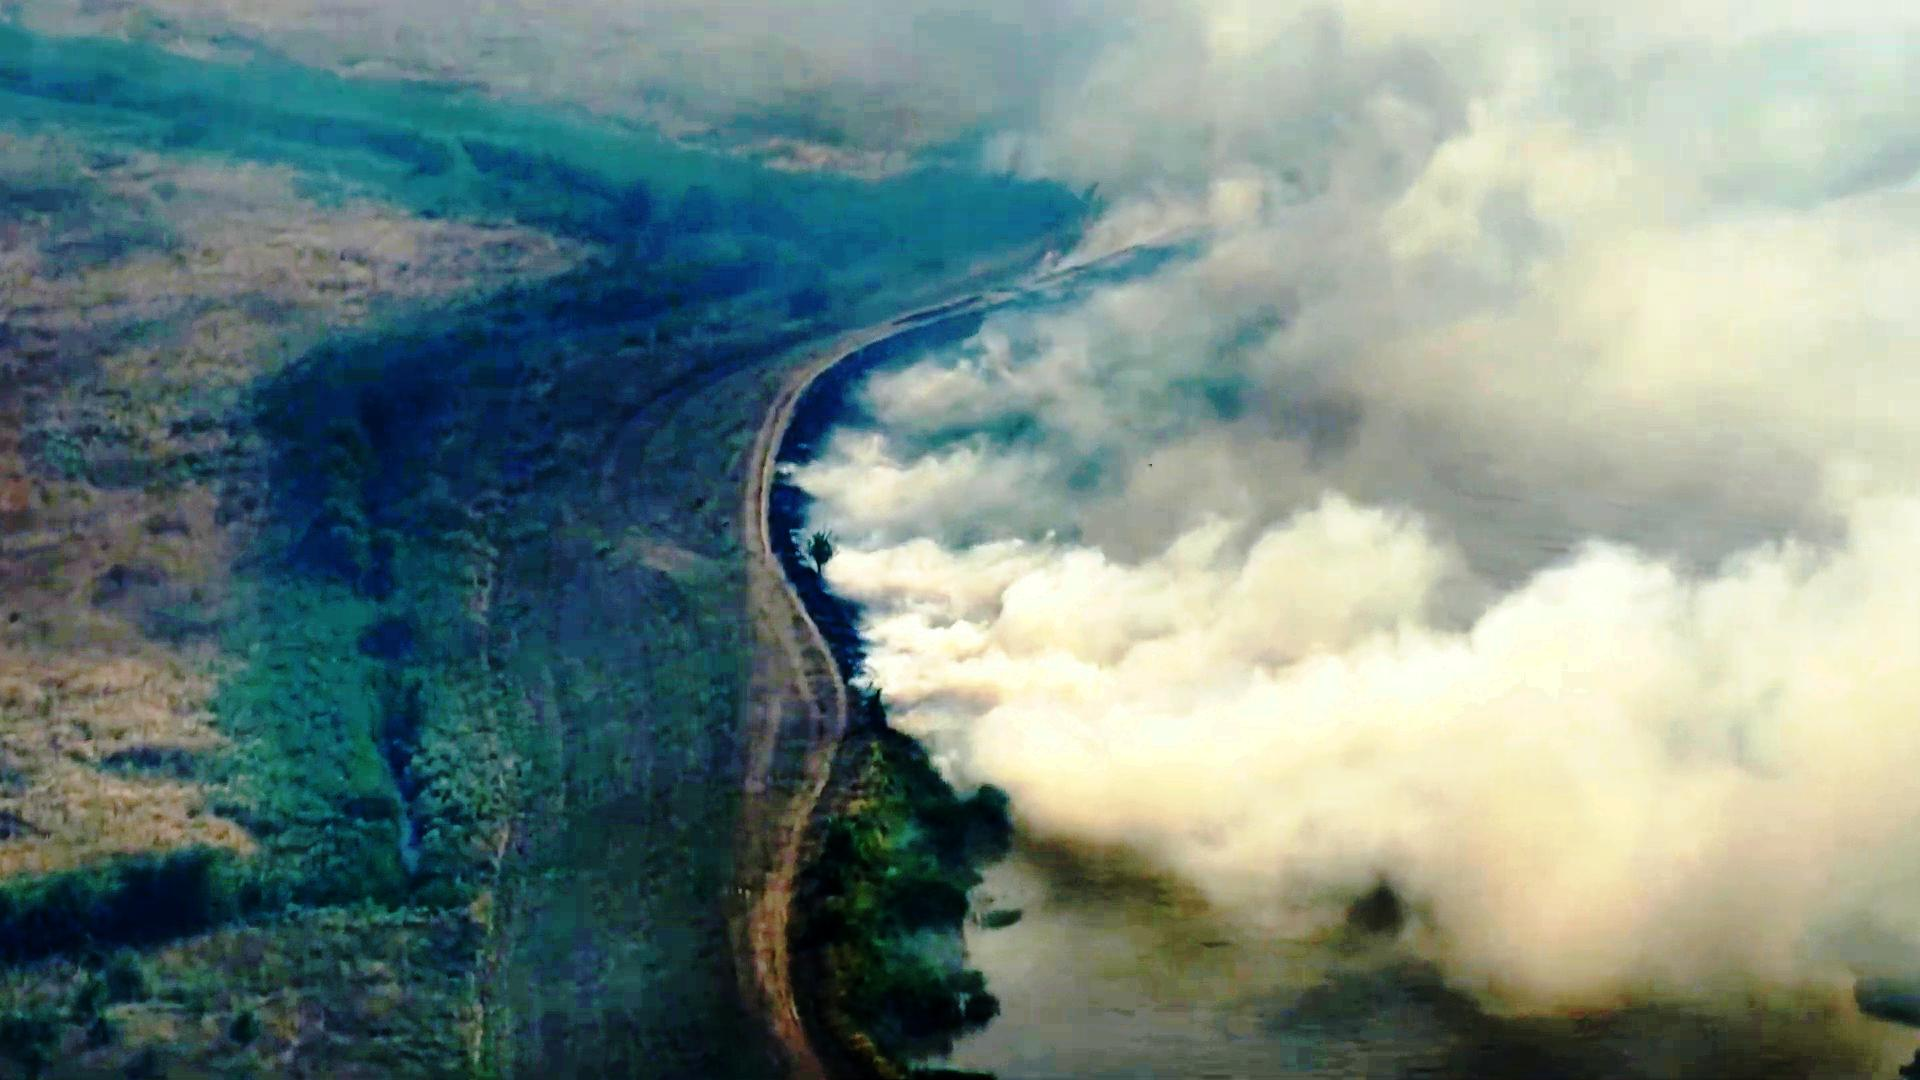smoke: (1178, 231, 1738, 707), (943, 563, 1233, 835)
